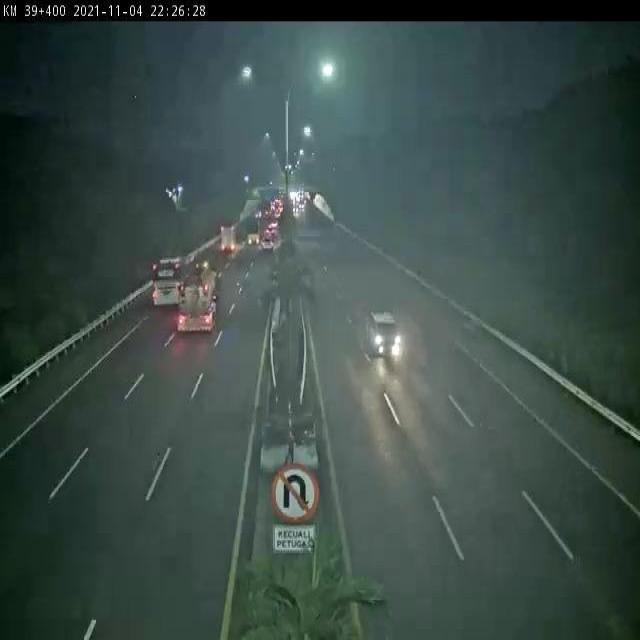bus-l-: (142, 250, 187, 314)
car: (363, 304, 402, 364), (259, 228, 276, 252)
truck-l-: (216, 219, 239, 256)
truck-xl-: (182, 259, 226, 340)
